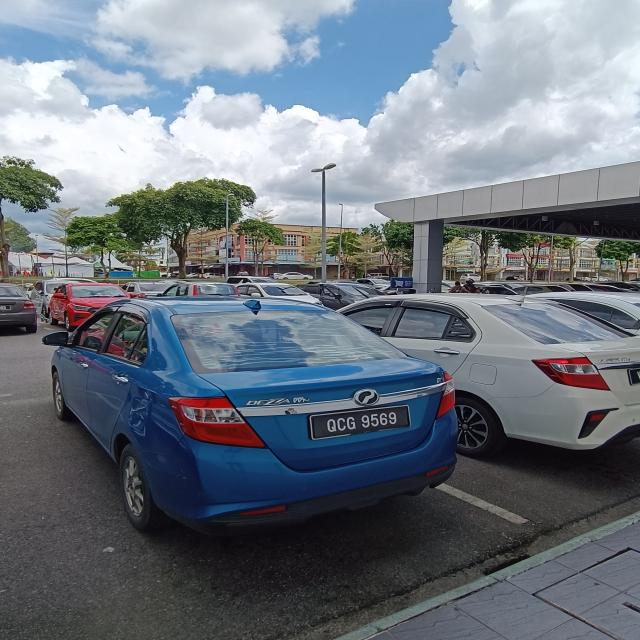PeroduaBezza: (41, 294, 460, 534)
